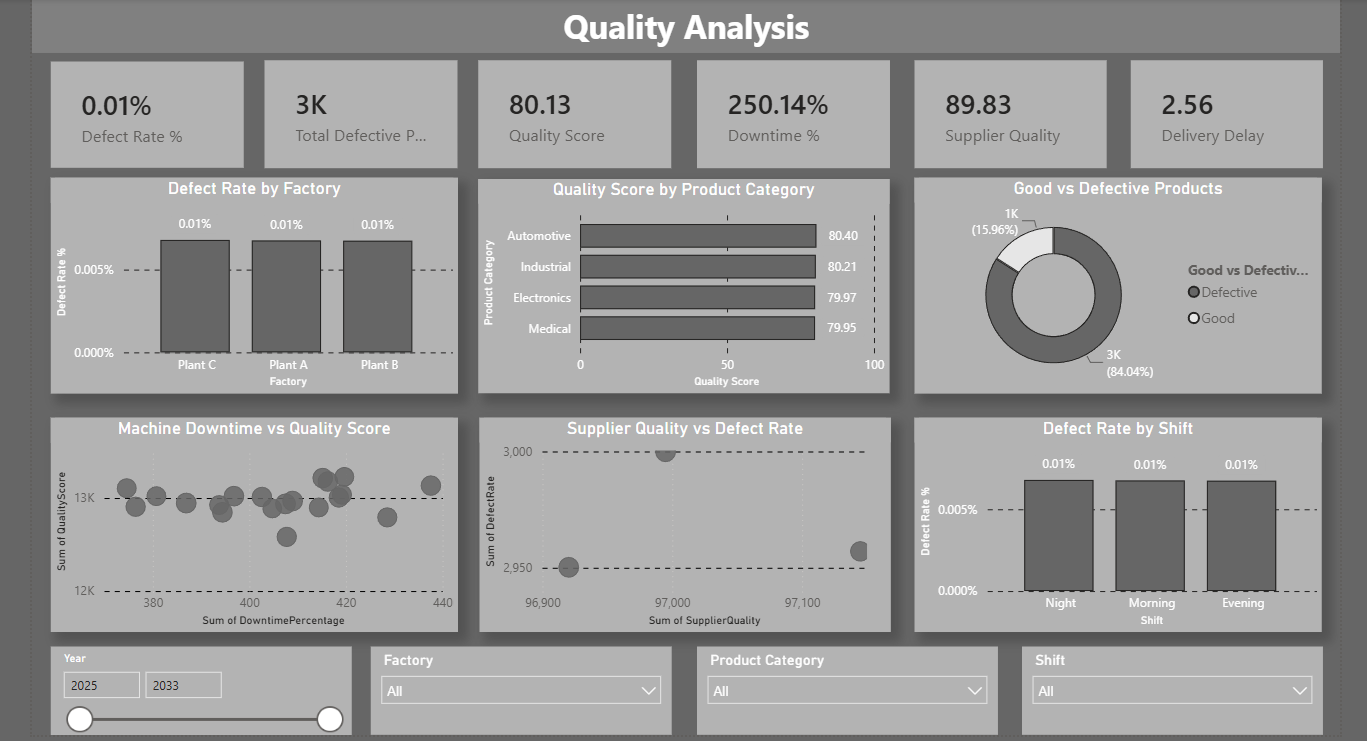

The page's visual inventory and layout, read from the dashboard file:
{"tool":"powerbi","page":{"name":"Quality Analysis","canvas":[1280,720],"ordinal":1},"visuals":[{"type":"cardVisual","fields":{"Data":["Measure_Table.Defect Rate %"]},"box":[18,61.7,189,104.1],"z":0},{"type":"cardVisual","fields":{"Data":["Measure_Table.Average Quality Score"]},"box":[437,60.4,189,105.4],"z":1000},{"type":"cardVisual","fields":{"Data":["Measure_Table.Average Downtime %"]},"box":[650.4,60.4,189,105.4],"z":2000},{"type":"cardVisual","fields":{"Data":["Measure_Table.Average Supplier Quality"]},"box":[863.8,60.4,187.7,105.4],"z":3000},{"type":"cardVisual","fields":{"Data":["Measure_Table.Average Delivery Delay"]},"box":[1074.6,60.4,187.7,105.4],"z":4000},{"type":"cardVisual","fields":{"Data":["Measure_Table.Total Defective Products"]},"box":[227.5,60.4,189,105.4],"z":5000},{"type":"clusteredColumnChart","title":"Defect Rate by Factory","fields":{"Category":["Dim_Factory.Factory"],"Y":["Measure_Table.Defect Rate %"]},"box":[18,174.8,398.5,210.8],"z":6000},{"type":"clusteredBarChart","title":"Quality Score by Product Category","fields":{"Category":["Dim_Product.Product Category"],"Y":["Measure_Table.Average Quality Score"]},"box":[437,176.1,402.3,209.5],"z":7000},{"type":"donutChart","title":"Good vs Defective Products","fields":{"Y":["Measure_Table.Total Production Records"],"Category":["Fact_manufacturing.Defect Status Level"]},"box":[863.8,174.8,398.5,210.8],"z":8000},{"type":"scatterChart","title":"Machine Downtime vs Quality Score","fields":{"X":["Sum(Fact_manufacturing.DowntimePercentage)"],"Category":["Dim_Machine.Machine ID"],"Y":["Sum(Fact_manufacturing.QualityScore)"],"Size":["Sum(Fact_manufacturing.ProductionVolume)"]},"box":[18,410,398.5,209.5],"z":9000},{"type":"scatterChart","title":"Supplier Quality vs Defect Rate","fields":{"X":["Sum(Fact_manufacturing.SupplierQuality)"],"Y":["Sum(Fact_manufacturing.DefectRate)"],"Size":["Sum(Fact_manufacturing.ProductionVolume)"],"Category":["Dim_Factory.Factory"]},"box":[438.3,410,402.3,209.5],"z":10000},{"type":"clusteredColumnChart","title":"Defect Rate by Shift","fields":{"Category":["Dim_Shift.Shift"],"Y":["Measure_Table.Defect Rate %"]},"box":[863.8,410,398.5,209.5],"z":11000},{"type":"slicer","fields":{"Values":["Dim_Date.Year"]},"box":[18,633.7,294.4,86.1],"z":12000},{"type":"slicer","fields":{"Values":["Dim_Factory.Factory"]},"box":[331.6,633.7,294.4,86.1],"z":13000},{"type":"slicer","fields":{"Values":["Dim_Product.Product Category"]},"box":[650.4,633.7,294.4,86.1],"z":14000},{"type":"slicer","fields":{"Values":["Dim_Shift.Shift"]},"box":[967.9,633.7,294.4,86.1],"z":15000},{"type":"textbox","box":[0,0,1280.3,52.7],"z":16000}]}

Visuals, with their boxes in screenshot pixels (x1, y1, x2, y2):
cardVisual - Measure_Table.Defect Rate %: x1=54, y1=63, x2=246, y2=168
cardVisual - Measure_Table.Average Quality Score: x1=479, y1=61, x2=670, y2=168
cardVisual - Measure_Table.Average Downtime %: x1=695, y1=61, x2=887, y2=168
cardVisual - Measure_Table.Average Supplier Quality: x1=912, y1=61, x2=1102, y2=168
cardVisual - Measure_Table.Average Delivery Delay: x1=1125, y1=61, x2=1316, y2=168
cardVisual - Measure_Table.Total Defective Products: x1=266, y1=61, x2=458, y2=168
"Defect Rate by Factory" clusteredColumnChart: x1=54, y1=177, x2=458, y2=391
"Quality Score by Product Category" clusteredBarChart: x1=479, y1=179, x2=887, y2=391
"Good vs Defective Products" donutChart: x1=912, y1=177, x2=1316, y2=391
"Machine Downtime vs Quality Score" scatterChart: x1=54, y1=416, x2=458, y2=628
"Supplier Quality vs Defect Rate" scatterChart: x1=480, y1=416, x2=888, y2=628
"Defect Rate by Shift" clusteredColumnChart: x1=912, y1=416, x2=1316, y2=628
slicer - Dim_Date.Year: x1=54, y1=643, x2=352, y2=730
slicer - Dim_Factory.Factory: x1=372, y1=643, x2=670, y2=730
slicer - Dim_Product.Product Category: x1=695, y1=643, x2=994, y2=730
slicer - Dim_Shift.Shift: x1=1017, y1=643, x2=1316, y2=730
textbox: x1=36, y1=0, x2=1334, y2=53
